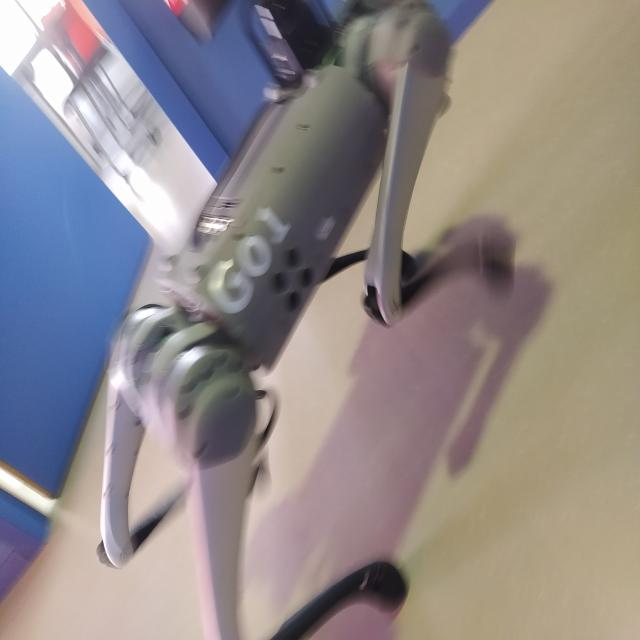unitree-go1-robot: (77, 0, 525, 640)
